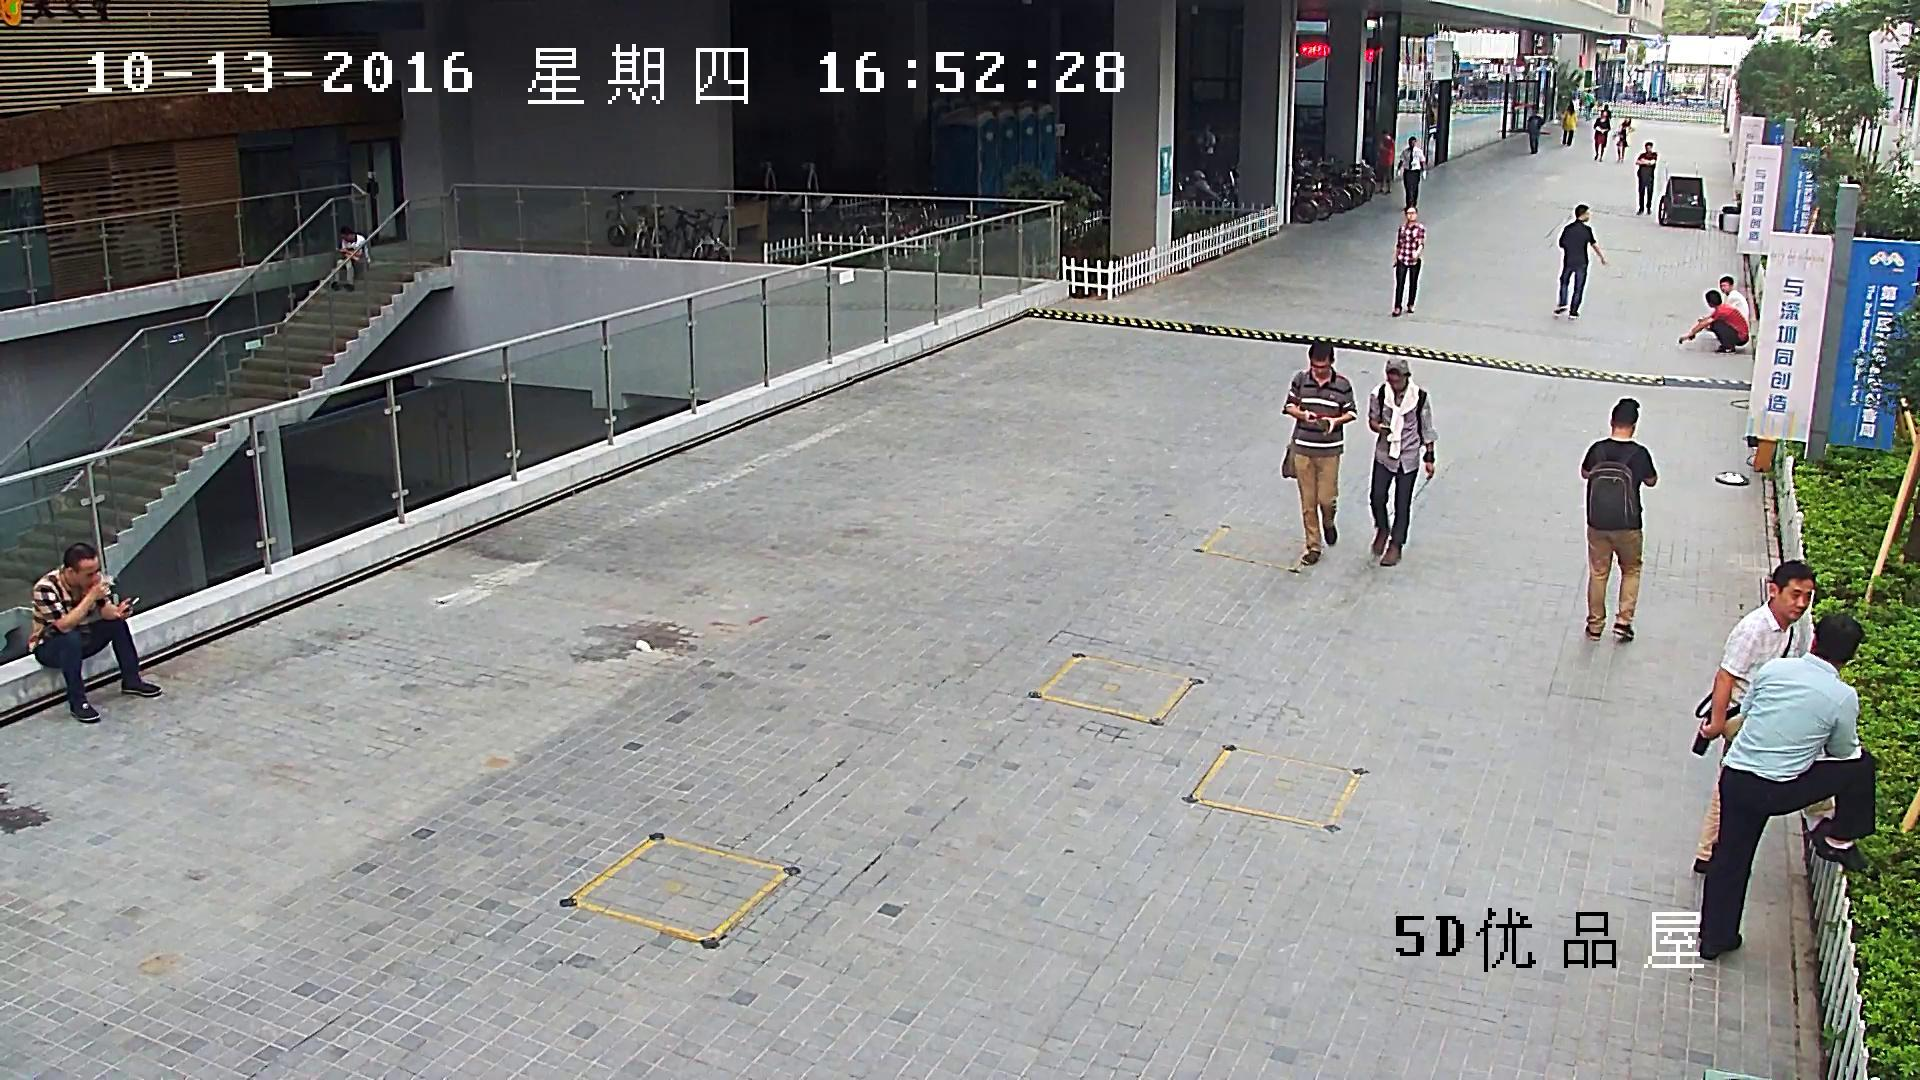person: (1698, 613, 1875, 958), (1691, 559, 1835, 874), (28, 541, 163, 722), (1580, 396, 1657, 642), (1280, 340, 1355, 564), (1370, 358, 1436, 564), (1552, 205, 1606, 317), (1678, 289, 1748, 351), (1391, 205, 1424, 317), (331, 226, 367, 288), (1396, 137, 1427, 209), (1635, 142, 1656, 212), (1719, 274, 1750, 319), (1377, 130, 1396, 193), (1194, 123, 1215, 167), (1594, 109, 1609, 162), (1529, 110, 1543, 154), (1561, 103, 1576, 144), (1617, 123, 1627, 161)
